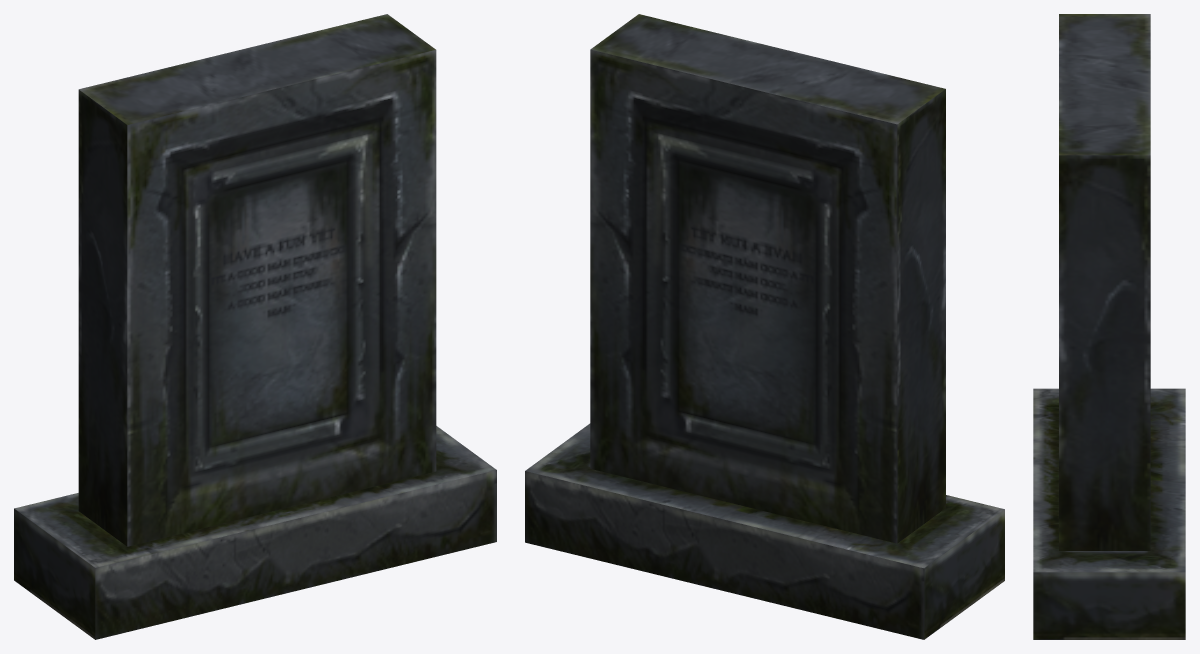
The model's file is C_mubei008.fbx.
The picture shows the model from 3 angles, left to right: view 1: azimuth 30°, elevation 25°; view 2: azimuth 150°, elevation 25°; view 3: azimuth 270°, elevation 25°; orthographic projection. The views are drawn at different scales.
Parts seen in each view (by area): view 1: C_mubei008; view 2: C_mubei008; view 3: C_mubei008.
Part boxes in pixels (x1,y1,x2,y2): C_mubei008: (14,14,496,639); C_mubei008: (525,14,1004,639); C_mubei008: (1033,14,1185,639).
Bounding box in the file's own units: 128 × 151 × 44.91.
